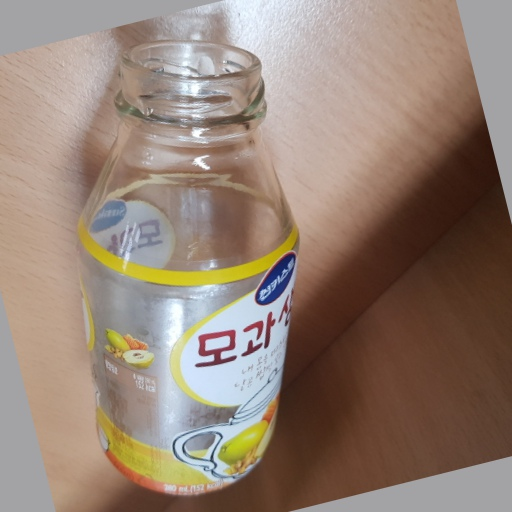Glass_4: (76, 38, 303, 500)
